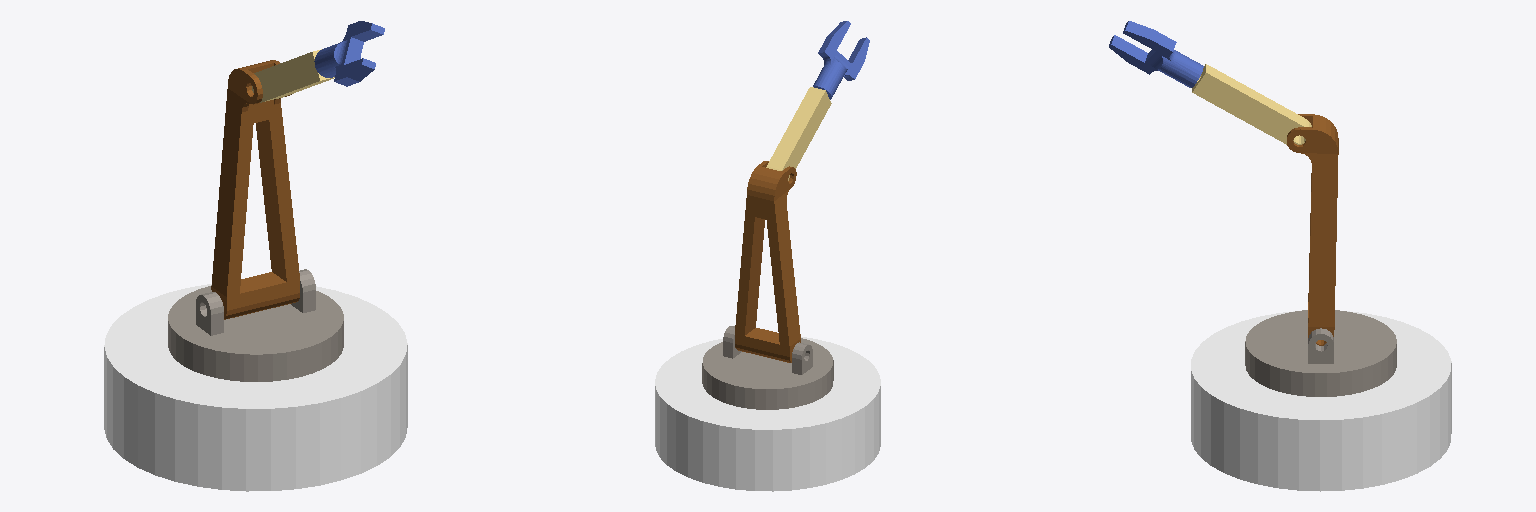
URDF robot description (robot1):
<robot
  name="robot1">
  <link
    name="base_link">
    <inertial>
      <origin
        xyz="-0.0123131305695124 -0.0579977308723805 -0.023934974509832"
        rpy="0 0 0" />
      <mass
        value="0.235619449019235" />
      <inertia
        ixx="0.000164933614313464"
        ixy="-5.9557004103818E-23"
        ixz="4.38194772762118E-37"
        iyy="0.000164933614313464"
        iyz="-7.93487954470976E-21"
        izz="0.000294524311274043" />
    </inertial>
    <visual>
      <origin
        xyz="0 0 0"
        rpy="0 0 0" />
      <geometry>
        <mesh
          filename="package://robot1/meshes/base_link.STL" />
      </geometry>
      <material
        name="">
        <color
          rgba="1 1 1 1" />
      </material>
    </visual>
    <collision>
      <origin
        xyz="0 0 0"
        rpy="0 0 0" />
      <geometry>
        <mesh
          filename="package://robot1/meshes/base_link.STL" />
      </geometry>
    </collision>
  </link>
  <link
    name="link0">
    <inertial>
      <origin
        xyz="-0.0123131305695124 -0.0579977308723805 -0.00357117086464784"
        rpy="0 0 0" />
      <mass
        value="0.0273725259013371" />
      <inertia
        ixx="5.89535546336349E-06"
        ixy="2.25917137182773E-23"
        ixz="2.9237964260941E-23"
        iyy="6.18098382439175E-06"
        iyz="-1.00647289209277E-22"
        izz="1.14107531219E-05" />
    </inertial>
    <visual>
      <origin
        xyz="0 0 0"
        rpy="0 0 0" />
      <geometry>
        <mesh
          filename="package://robot1/meshes/link0.STL" />
      </geometry>
      <material
        name="">
        <color
          rgba="0.647058823529412 0.619607843137255 0.588235294117647 1" />
      </material>
    </visual>
    <collision>
      <origin
        xyz="0 0 0"
        rpy="0 0 0" />
      <geometry>
        <mesh
          filename="package://robot1/meshes/link0.STL" />
      </geometry>
    </collision>
  </link>
  <joint
    name="joint0"
    type="continuous">
    <origin
      xyz="0 0 0"
      rpy="0 0 0" />
    <parent
      link="base_link" />
    <child
      link="link0" />
    <axis
      xyz="-1 0 0" />
  </joint>
  <link
    name="link1">
    <inertial>
      <origin
        xyz="0.0393492147392786 0.0123131270568874 0.000329753770802459"
        rpy="0 0 0" />
      <mass
        value="0.0108804729251516" />
      <inertia
        ixx="7.65181828457679E-07"
        ixy="-8.84710162723485E-13"
        ixz="1.46689556503944E-07"
        iyy="8.64235680265619E-06"
        iyz="3.12404116793849E-13"
        izz="9.17661146335676E-06" />
    </inertial>
    <visual>
      <origin
        xyz="0 0 0"
        rpy="0 0 0" />
      <geometry>
        <mesh
          filename="package://robot1/meshes/link1.STL" />
      </geometry>
      <material
        name="">
        <color
          rgba="0.619607843137255 0.407843137254902 0.2 1" />
      </material>
    </visual>
    <collision>
      <origin
        xyz="0 0 0"
        rpy="0 0 0" />
      <geometry>
        <mesh
          filename="package://robot1/meshes/link1.STL" />
      </geometry>
    </collision>
  </link>
  <joint
    name="joint1"
    type="continuous">
    <origin
      xyz="0 -0.0579977308723804 0.00863951968025983"
      rpy="0 -1.54913276817995 1.5707963267949" />
    <parent
      link="base_link" />
    <child
      link="link1" />
    <axis
      xyz="0 1 0" />
  </joint>
  <link
    name="link2">
    <inertial>
      <origin
        xyz="0.0255304816572912 0.004 0.00500000000000001"
        rpy="0 0 0" />
      <mass
        value="0.0035685840734641" />
      <inertia
        ixx="5.13788254049585E-08"
        ixy="-1.43494949658677E-23"
        ixz="5.9557004103818E-23"
        iyy="6.90480846340374E-07"
        iyz="-1.5383551359425E-24"
        izz="6.788005458989E-07" />
    </inertial>
    <visual>
      <origin
        xyz="0 0 0"
        rpy="0 0 0" />
      <geometry>
        <mesh
          filename="package://robot1/meshes/link2.STL" />
      </geometry>
      <material
        name="">
        <color
          rgba="0.968627450980392 0.87843137254902 0.6 1" />
      </material>
    </visual>
    <collision>
      <origin
        xyz="0 0 0"
        rpy="0 0 0" />
      <geometry>
        <mesh
          filename="package://robot1/meshes/link2.STL" />
      </geometry>
    </collision>
  </link>
  <joint
    name="joint2"
    type="fixed">
    <origin
      xyz="-0.0163131305695124 -0.0645894486941174 0.0819670598396704"
      rpy="0 -0.546537252241473 -1.5707963267949" />
    <parent
      link="base_link" />
    <child
      link="link2" />
    <axis
      xyz="0 0 0" />
  </joint>
  <link
    name="link3">
    <inertial>
      <origin
        xyz="9.73405973880848E-10 -5.53862268548588E-10 0.014813879772486"
        rpy="0 0 0" />
      <mass
        value="0.00234331773189174" />
      <inertia
        ixx="1.95788408843625E-07"
        ixy="7.24059785139697E-15"
        ixz="5.08897342101697E-15"
        iyy="2.43143182578706E-07"
        iyz="-2.73985023916179E-15"
        izz="6.73849610709392E-08" />
    </inertial>
    <visual>
      <origin
        xyz="0 0 0"
        rpy="0 0 0" />
      <geometry>
        <mesh
          filename="package://robot1/meshes/link3.STL" />
      </geometry>
      <material
        name="">
        <color
          rgba="0.380392156862745 0.47843137254902 0.788235294117647 1" />
      </material>
    </visual>
    <collision>
      <origin
        xyz="0 0 0"
        rpy="0 0 0" />
      <geometry>
        <mesh
          filename="package://robot1/meshes/link3.STL" />
      </geometry>
    </collision>
  </link>
  <joint
    name="joint3"
    type="fixed">
    <origin
      xyz="-0.0123131305695124 -0.105561584982946 0.112745039759244"
      rpy="0.71190509829639 -0.814186143884315 0.700272099867183" />
    <parent
      link="base_link" />
    <child
      link="link3" />
    <axis
      xyz="0 0 0" />
  </joint>
</robot>

--- What the picture shows (computed from the rendered views, not written in the file) ---
Views: 3 orthographic renders of the robot side by side, from view 1: azimuth 30°, elevation 25°; view 2: azimuth 150°, elevation 25°; view 3: azimuth 270°, elevation 25°.
Model robot1 with 5 links and 4 joints (2 continuous, 2 fixed), rooted at base_link, posed all joints at 0.
Links seen in each view (by area): view 1: base_link, link1, link0, link3, link2; view 2: base_link, link1, link0, link2, link3; view 3: base_link, link0, link1, link2, link3.
Boxes of the visible links, bbox=[...] form: base_link: bbox=[104, 284, 407, 491]; link1: bbox=[211, 60, 299, 319]; link0: bbox=[168, 269, 343, 381]; link3: bbox=[314, 21, 384, 86]; link2: bbox=[252, 49, 334, 102]; base_link: bbox=[655, 337, 880, 491]; link1: bbox=[735, 161, 800, 362]; link0: bbox=[702, 326, 833, 409]; link2: bbox=[766, 87, 831, 180]; link3: bbox=[813, 21, 869, 99]; base_link: bbox=[1191, 311, 1451, 491]; link0: bbox=[1245, 310, 1396, 396]; link1: bbox=[1287, 114, 1338, 345]; link2: bbox=[1192, 64, 1311, 144]; link3: bbox=[1109, 21, 1203, 87].
Size in the robot's own frame: 0.1 by 0.1312 by 0.1763 metres.
5 mesh visuals loaded from 5 distinct referenced files (5 binary STL).
